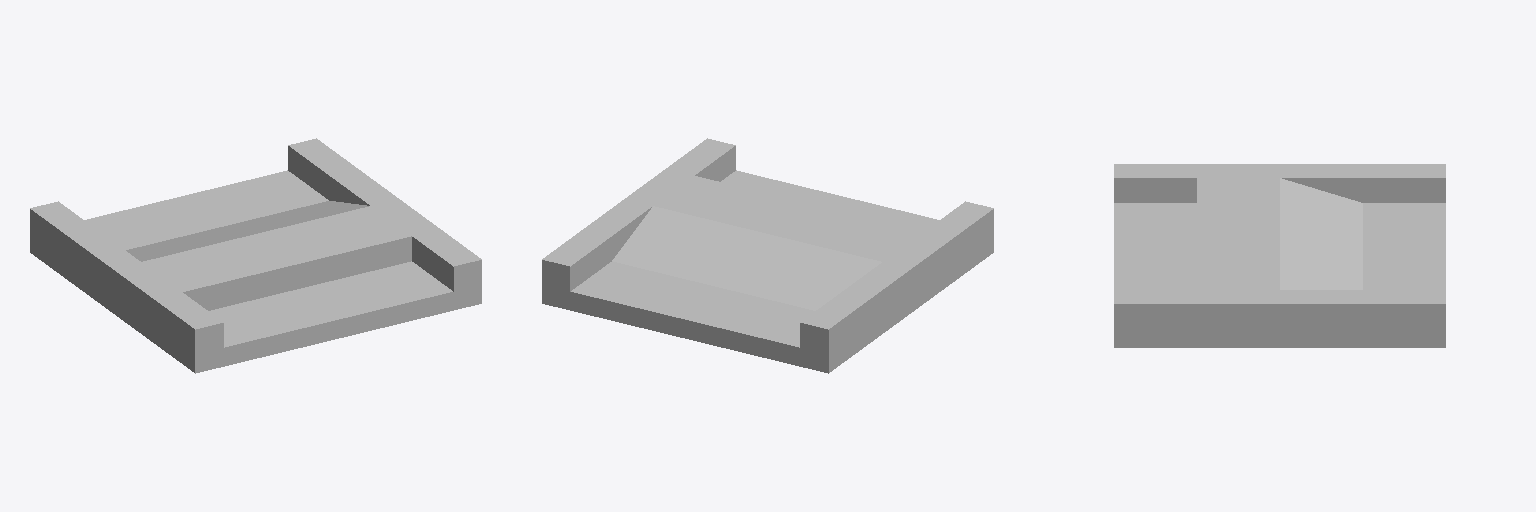
File: rampSquare.obj
3 views of the same model, side by side, from view 1: azimuth 30°, elevation 25°; view 2: azimuth 150°, elevation 25°; view 3: azimuth 270°, elevation 25° (orthographic).
Parts seen in each view (by area): view 1: rampSquare; view 2: rampSquare; view 3: rampSquare.
Boxes of the visible parts, x1,y1,x2,y2 form: rampSquare: [30, 138, 481, 373]; rampSquare: [542, 138, 993, 373]; rampSquare: [1114, 164, 1445, 347].
Size of the model in its own units: 0.9999 by 0.1467 by 0.9999.